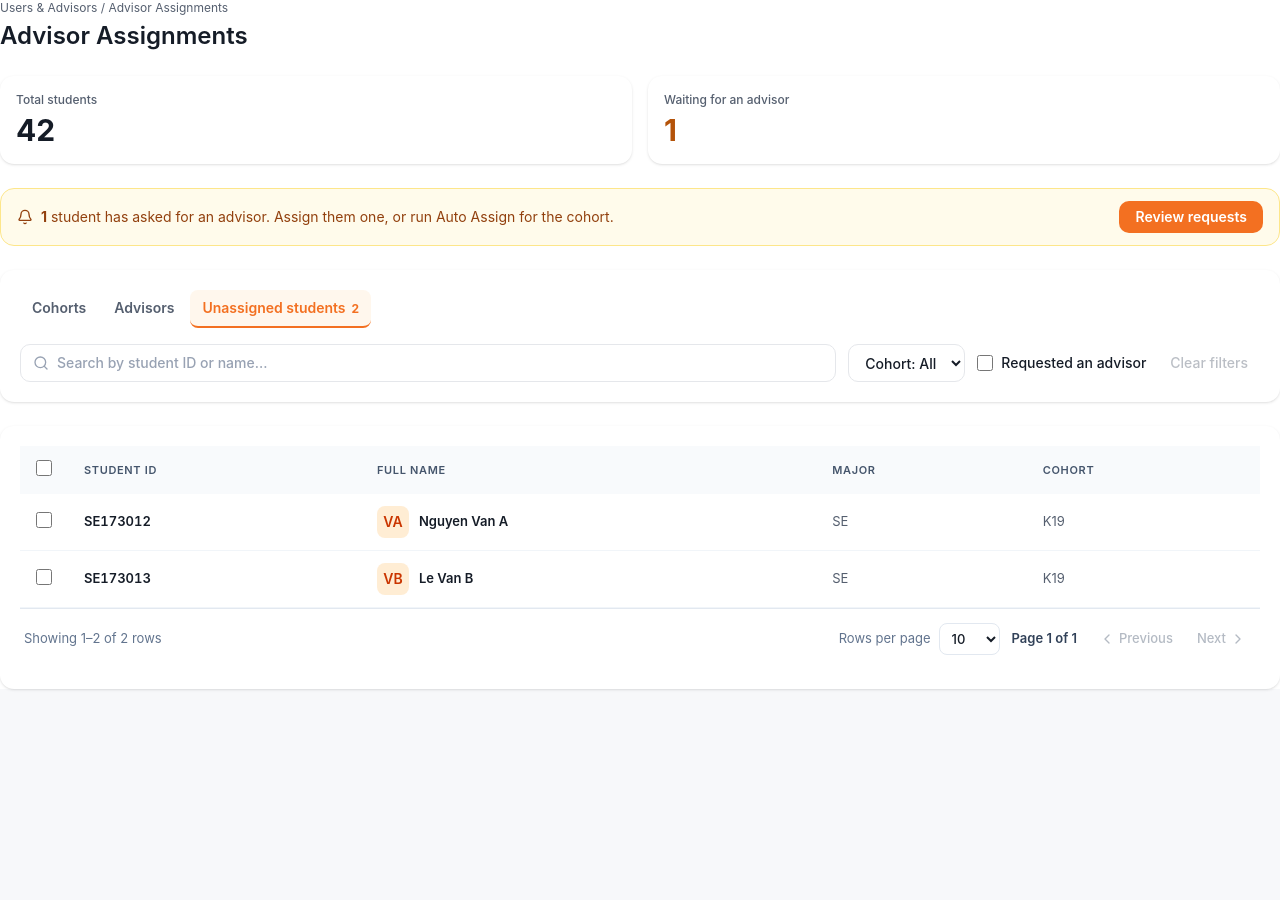
Scenario: AssignmentsOverview — unassigned students › opens the advisor dropdown modal from the bulk action bar
What coordinates should you click on to do the following:
click the tab "Unassigned students2"
I would click on:
 (281, 309)
Its box is [190,290,371,328].
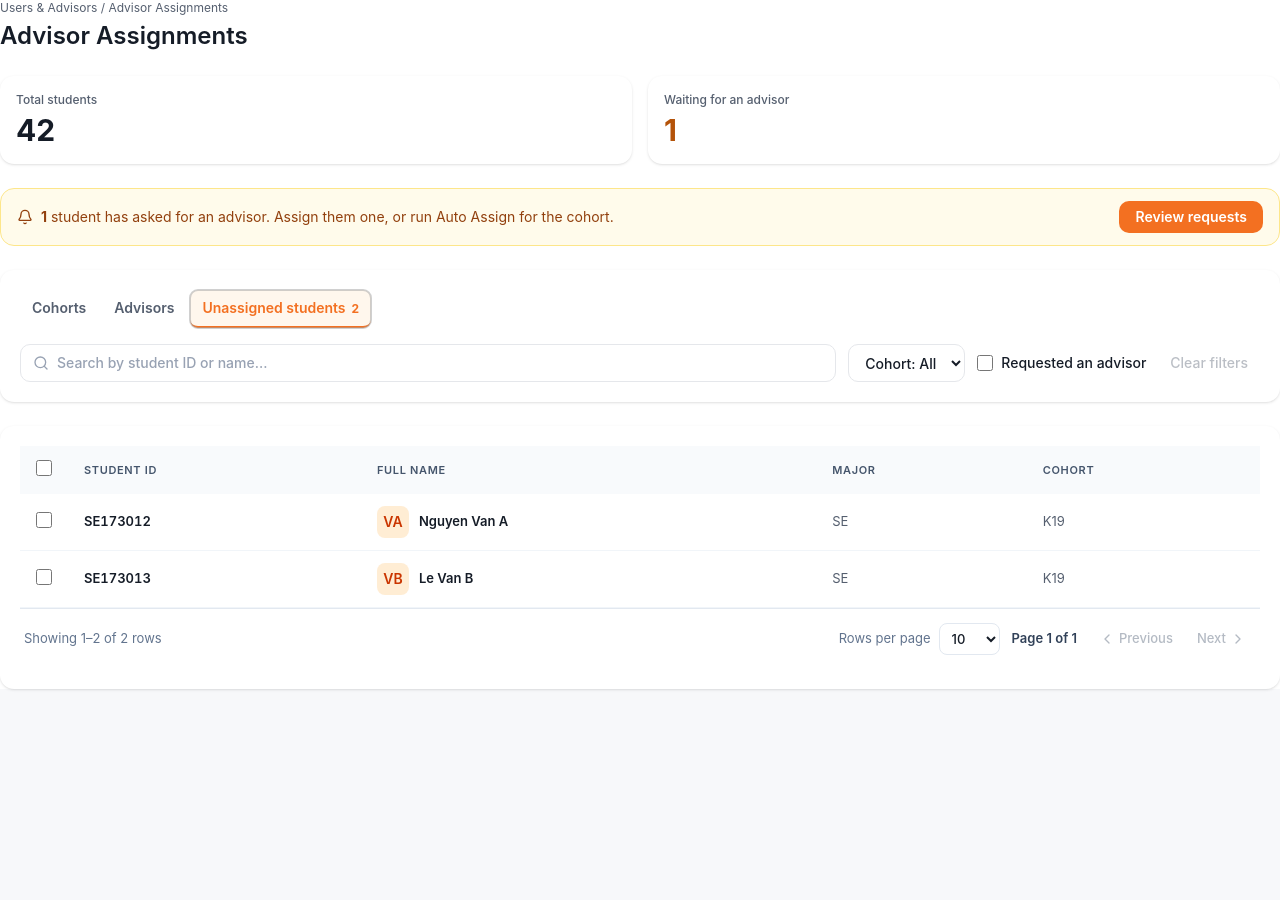
Expected: the text "SE173012" is shown, [84,513,151,529]
What coordinates should you click on to do the following:
click the checkbox named "Select row 1"
I would click on:
 (44, 520)
Its box is [36,512,52,528].
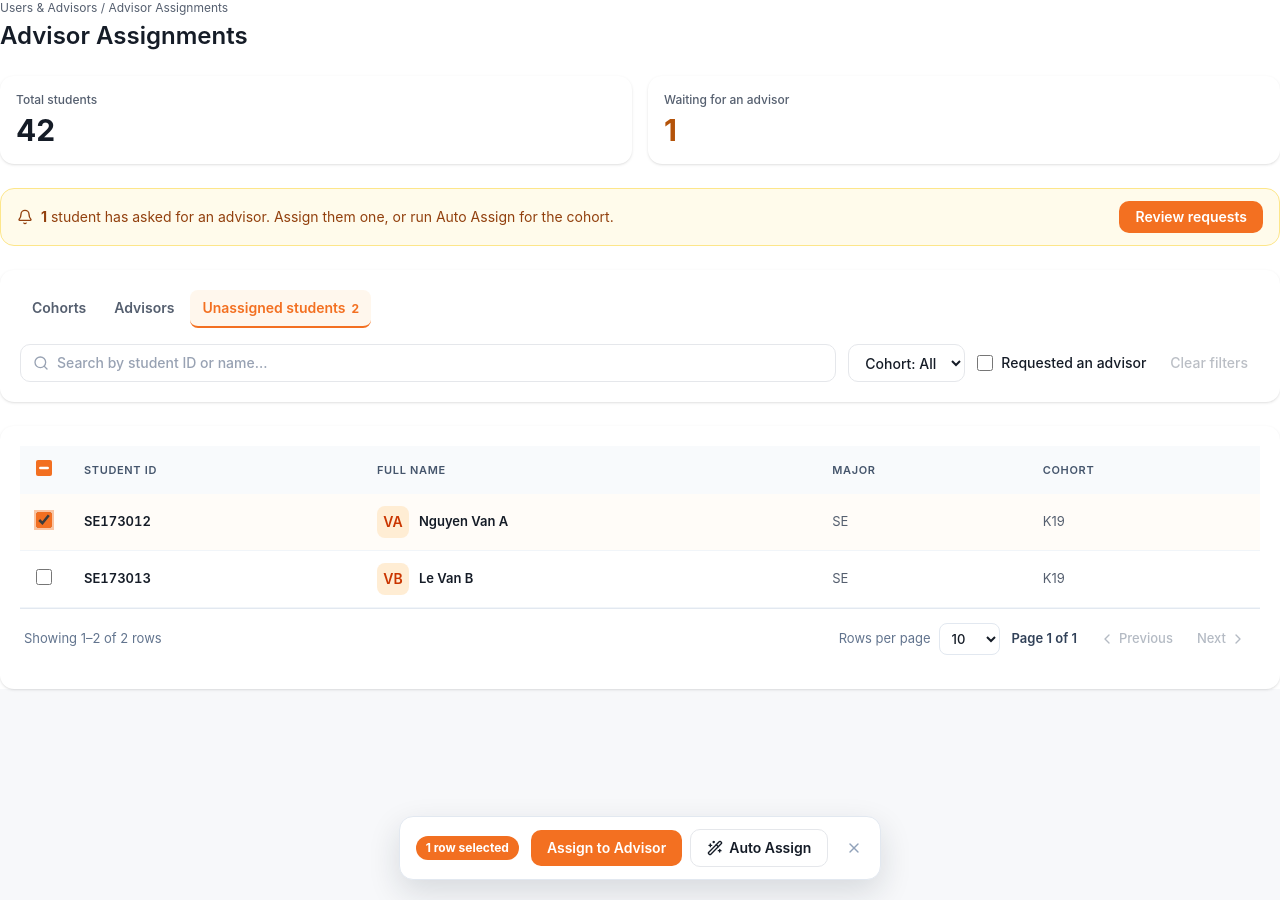
What coordinates should you click on to do the following:
click the button "Assign to Advisor"
I would click on:
 (607, 848)
Its box is [531,830,682,866].
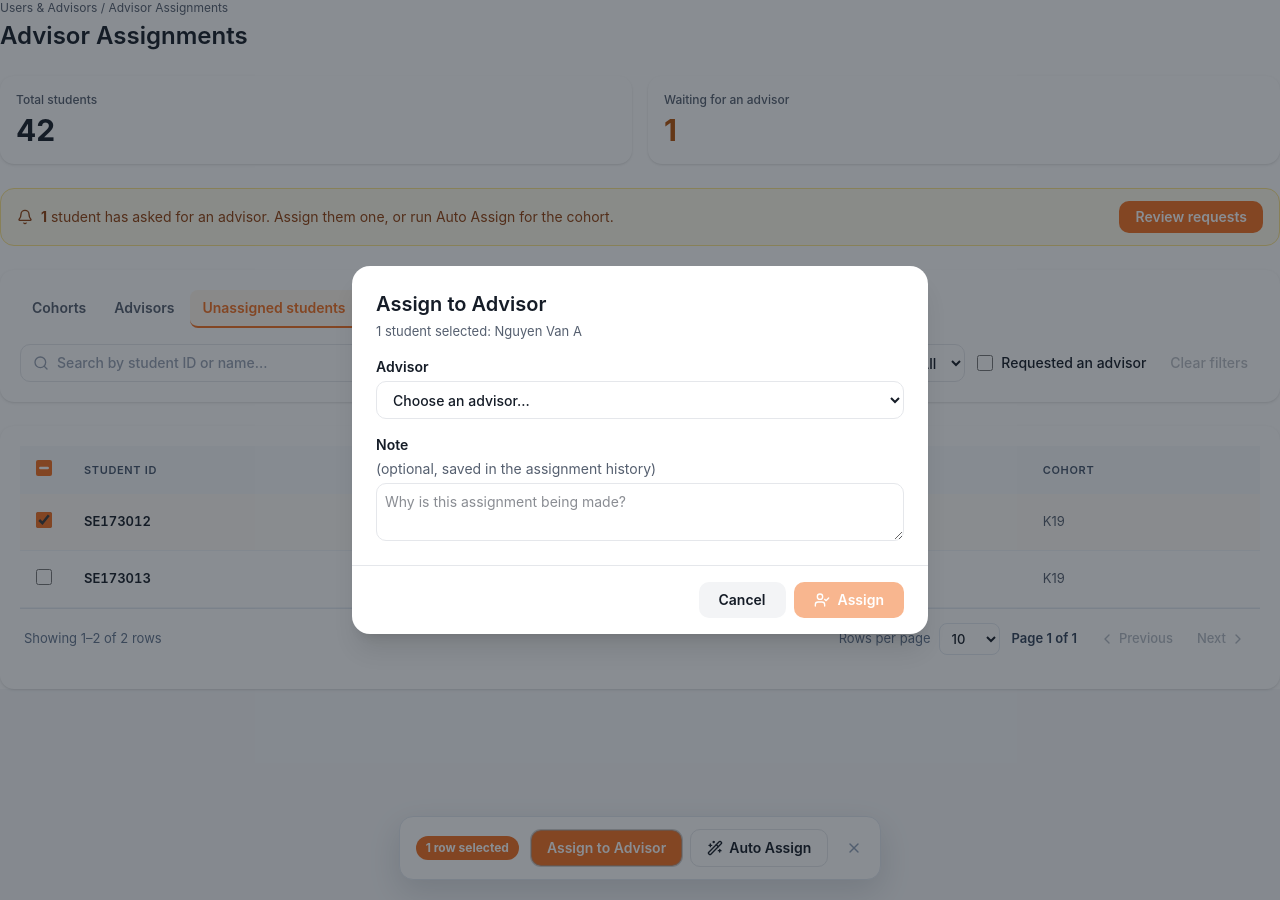
Expected: the dialog is shown, [352,266,928,634]
